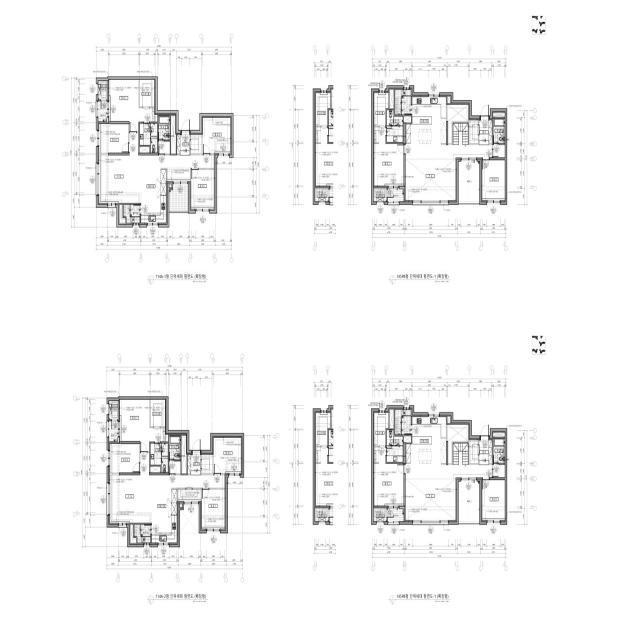space_balconi: (459, 481, 479, 522), (459, 162, 479, 202), (169, 186, 188, 211), (395, 90, 411, 115), (395, 410, 411, 435), (123, 205, 140, 223), (134, 525, 151, 543), (388, 189, 404, 202), (388, 509, 404, 522), (98, 101, 107, 122), (109, 421, 118, 441)
space_bedroom: (109, 80, 154, 132), (120, 400, 165, 452), (374, 127, 404, 186), (374, 447, 404, 506), (203, 117, 231, 153), (214, 437, 242, 473), (191, 170, 215, 209), (202, 490, 226, 529), (482, 160, 505, 200), (482, 480, 505, 520), (99, 124, 128, 153), (110, 444, 139, 473)
space_dressroom: (374, 93, 389, 126), (374, 413, 389, 446), (140, 80, 155, 107), (150, 400, 165, 427)
space_front: (479, 440, 492, 465), (479, 120, 492, 145), (188, 453, 201, 475), (177, 135, 190, 155)
space_kitchen: (406, 97, 446, 144), (406, 417, 446, 464), (141, 169, 166, 223), (152, 489, 177, 543)
space_living_room: (99, 133, 215, 203), (110, 453, 226, 523), (405, 144, 492, 200), (405, 464, 492, 520)
space_other: (448, 105, 469, 143), (448, 425, 469, 463), (453, 123, 469, 145), (453, 443, 469, 465), (167, 168, 190, 182), (178, 489, 201, 501), (469, 120, 478, 144), (469, 440, 478, 464), (191, 135, 202, 154), (202, 454, 213, 473), (171, 116, 176, 154), (182, 436, 187, 474), (493, 145, 505, 158), (169, 461, 181, 474), (158, 142, 170, 154), (493, 465, 505, 477), (119, 205, 125, 224), (130, 525, 136, 543), (390, 90, 394, 109), (390, 410, 394, 428), (404, 116, 411, 123), (404, 436, 411, 443), (493, 113, 505, 117), (493, 433, 505, 437), (447, 97, 450, 103), (447, 417, 450, 423), (155, 114, 157, 122), (166, 434, 168, 442), (169, 184, 171, 188), (180, 504, 182, 507)
space_outdoor_room: (374, 188, 387, 202), (374, 508, 387, 522), (98, 81, 107, 100), (109, 401, 118, 419)
space_toilet: (150, 443, 168, 473), (139, 124, 157, 153), (387, 110, 403, 142), (387, 430, 403, 462), (169, 436, 181, 461), (493, 438, 505, 463), (493, 119, 505, 143), (158, 116, 170, 140)
